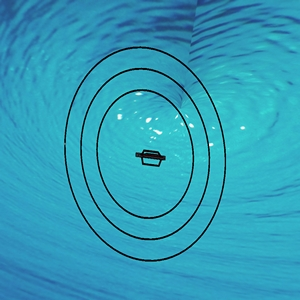circle: (55, 39, 231, 261)
submarine: (134, 147, 166, 168)
